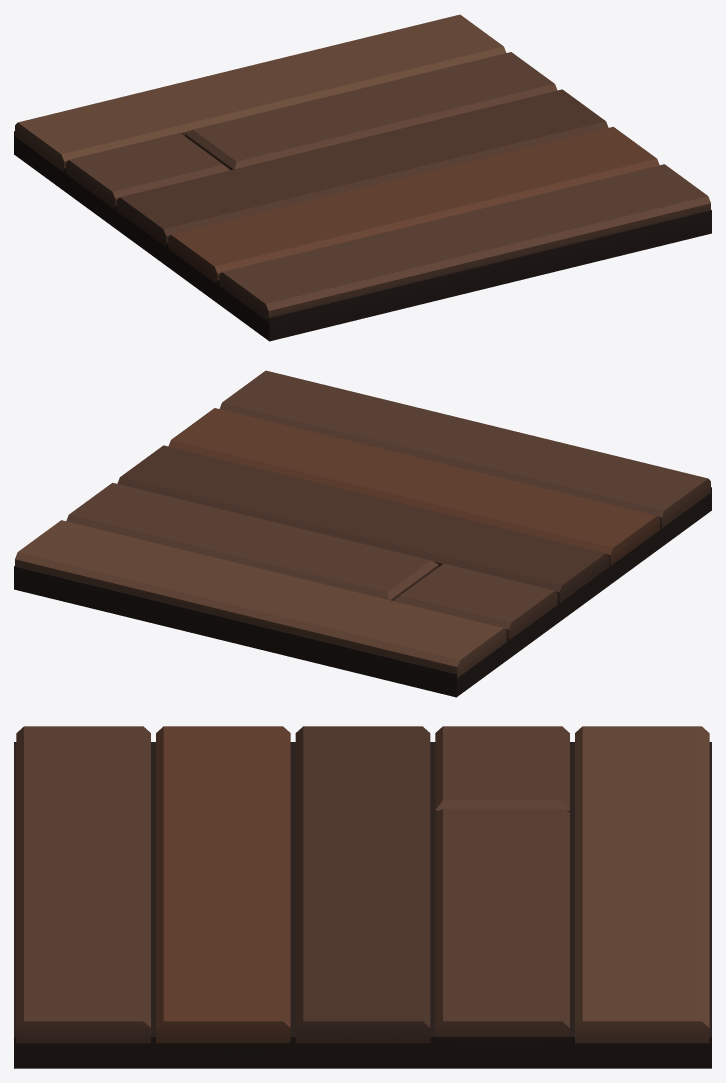
The model's file is floor_planks_dark_small_B.glb.
3 renders of one model, top to bottom at view 1: azimuth 30°, elevation 25°; view 2: azimuth 150°, elevation 25°; view 3: azimuth 270°, elevation 25°, orthographic. The views are drawn at different scales.
Visible parts, largest first — view 1: Item; view 2: Item; view 3: Item.
Part boxes in pixels (<box>): Item: <box>14,14,711,341</box>; Item: <box>14,370,711,697</box>; Item: <box>14,726,711,1068</box>.
Size of the model in its own units: 2 by 0.15 by 2.
Materials: 1 (1 with a texture image).
